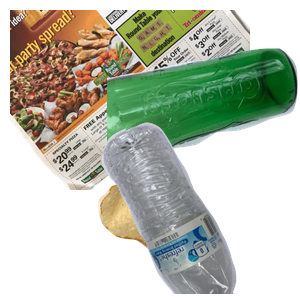glass: (107, 46, 300, 197)
paper: (10, 10, 250, 190)
plastic: (100, 120, 300, 300)
trash: (96, 181, 277, 300)
